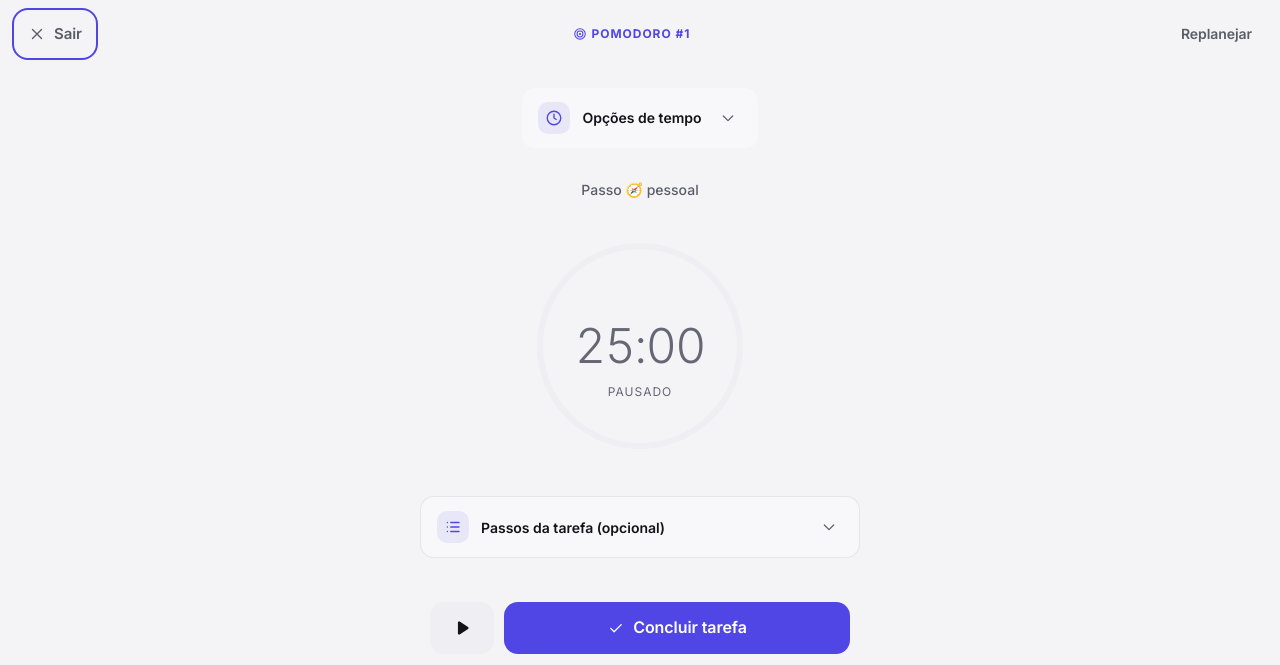
Test: seletor Pomodoro mantém três fases nomeadas, com SVG e estado acessível
Click the heading "Opções de tempo". click: (640, 118)
box: [522, 88, 758, 148]
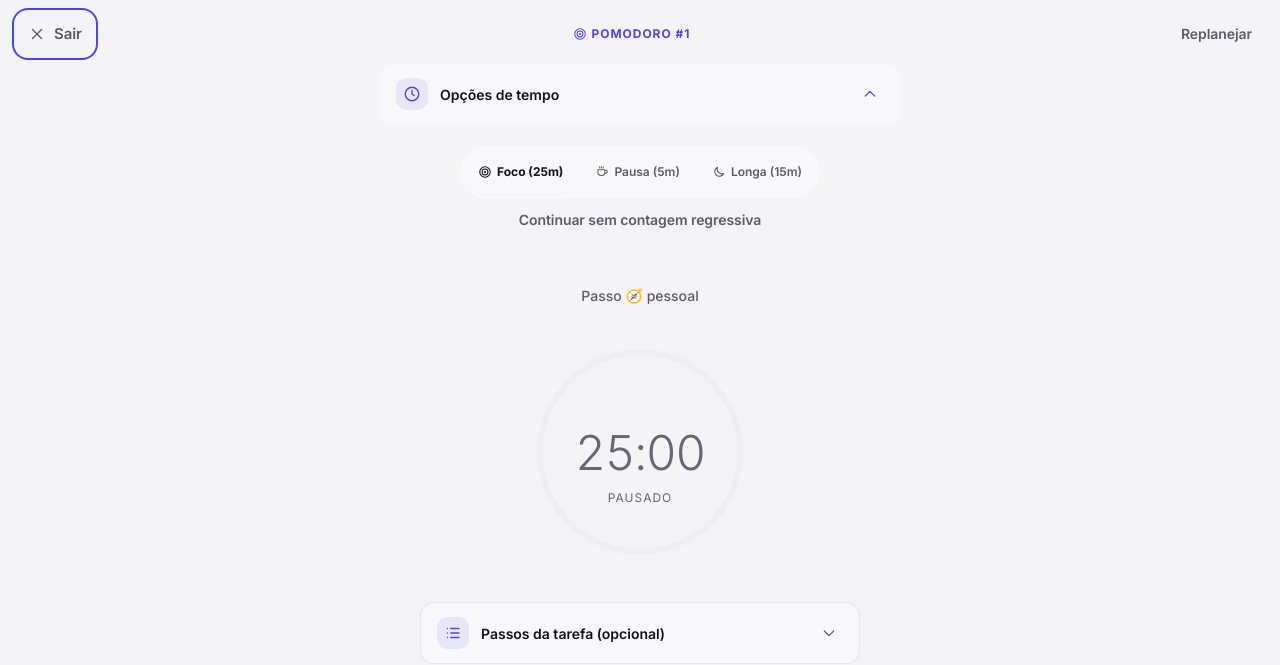
Click the button "Foco (25m)". click: (521, 172)
box: [464, 150, 577, 194]
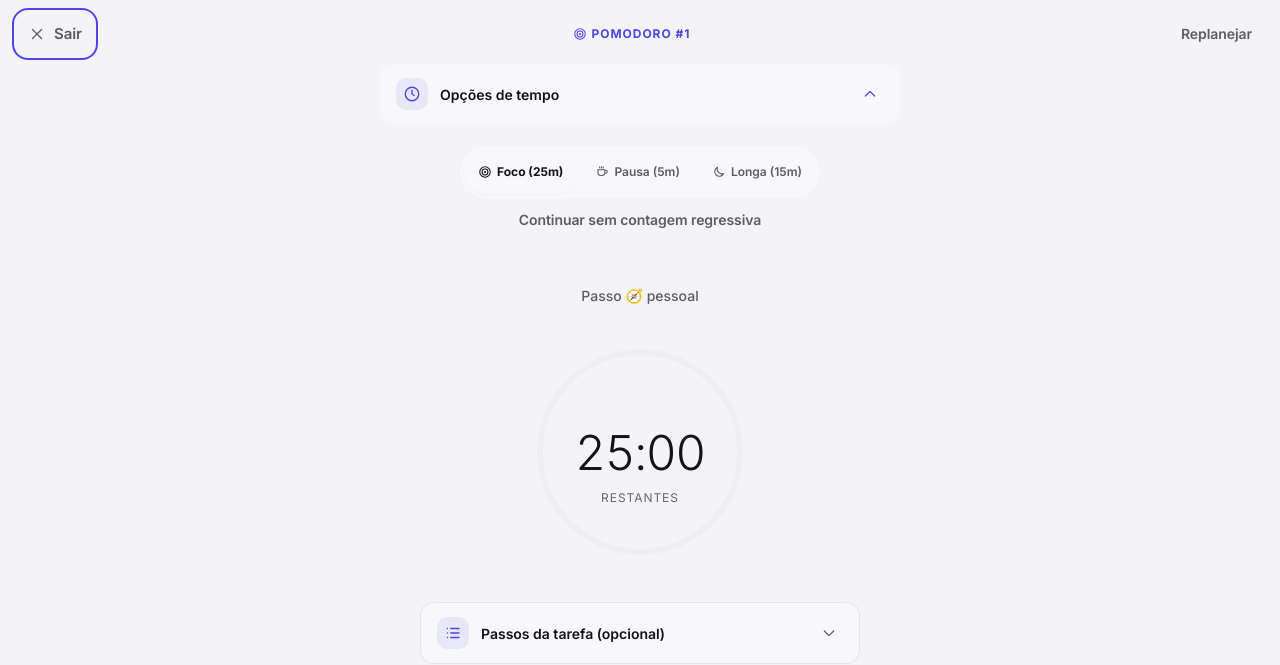
Expected: the text with class "timer-value" reads "25:00", [575, 422, 705, 482]
Click the button "Pausa (5m)". click: (638, 172)
box: [581, 150, 694, 194]
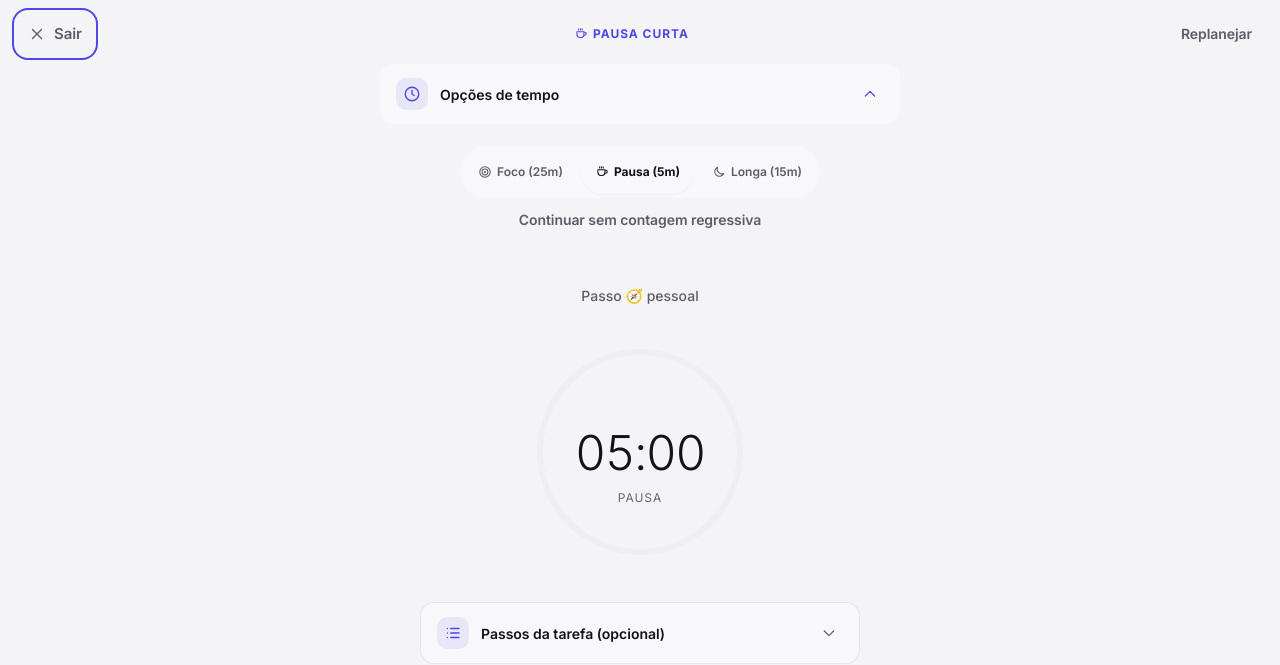
Result: the text with class "timer-value" reads "05:00" at [575, 422, 705, 482]
Click the button "Longa (15m)". click: (757, 172)
box: [698, 150, 816, 194]
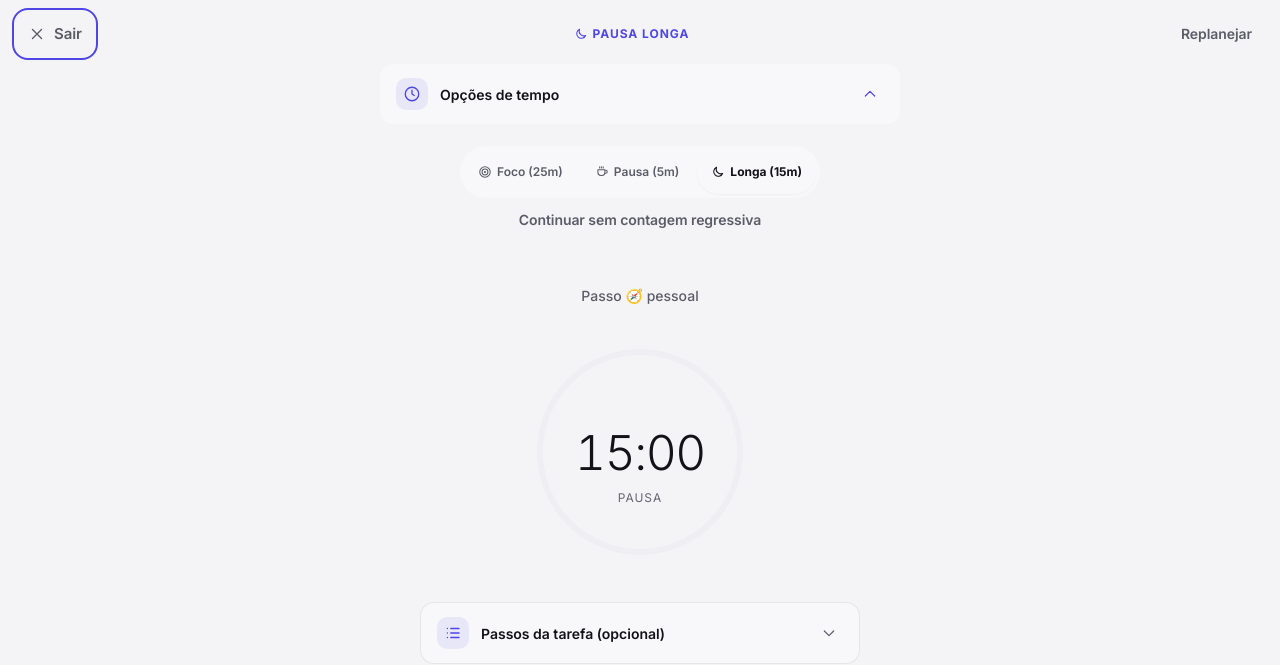
Result: the text with class "timer-value" reads "15:00" at [575, 422, 705, 482]
